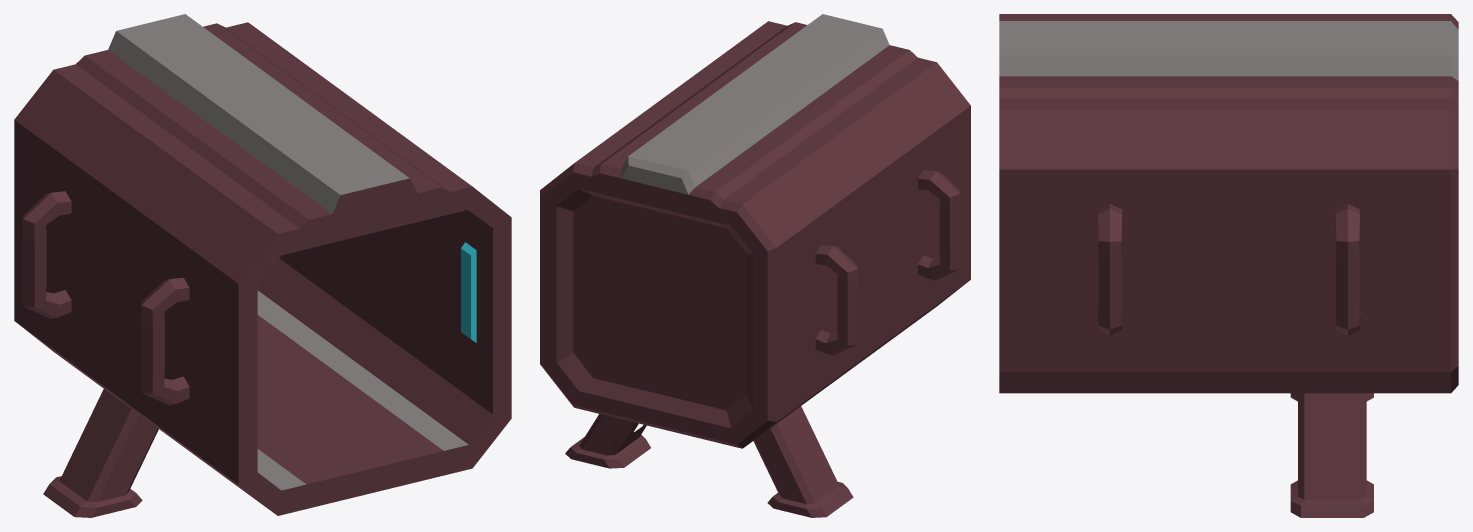
File: scifi-scifi-planet-base-hall-end.glb
The picture shows the model from 3 angles, left to right: view 1: azimuth 30°, elevation 25°; view 2: azimuth 150°, elevation 25°; view 3: azimuth 270°, elevation 25°; orthographic projection. The views are drawn at different scales.
Parts seen in each view (by area): view 1: scifi-planet-base-hall-end; view 2: scifi-planet-base-hall-end; view 3: scifi-planet-base-hall-end.
Part boxes in pixels (box(x1,y1,x2,y2)): scifi-planet-base-hall-end: box(14, 14, 511, 517); scifi-planet-base-hall-end: box(540, 14, 970, 517); scifi-planet-base-hall-end: box(999, 14, 1458, 517).
Bounding box in the file's own units: 3.63 × 3.9 × 4.
